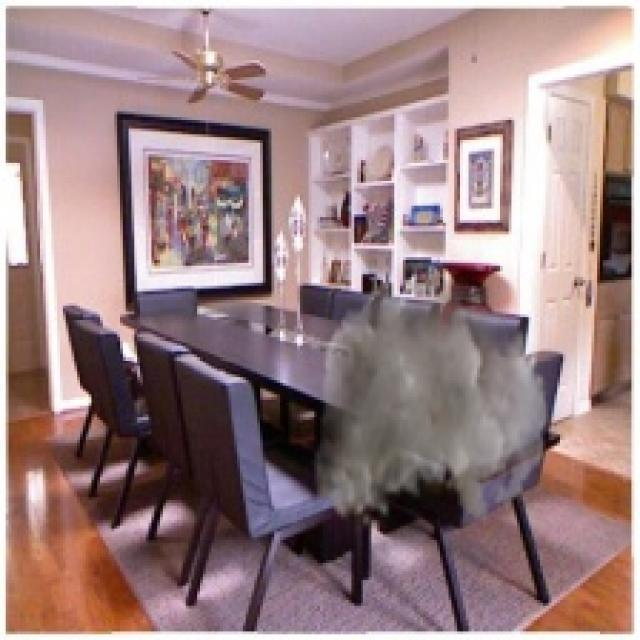Smoke: (312, 257, 548, 529)
